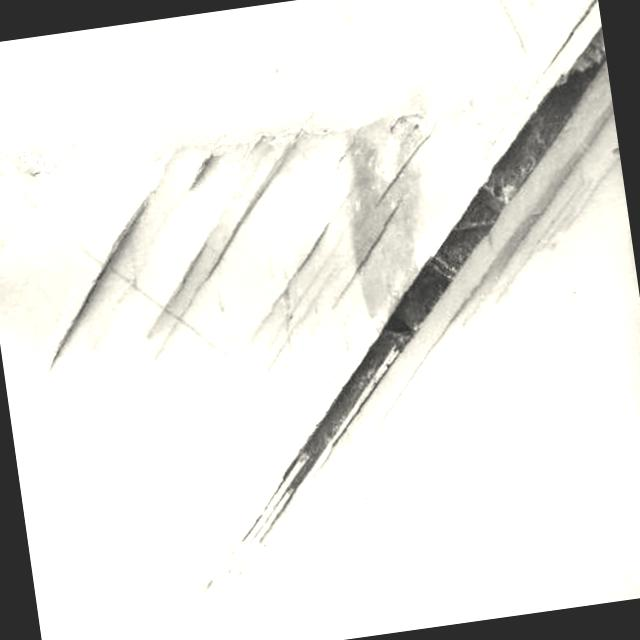crack: (168, 38, 640, 565), (19, 172, 182, 364)
